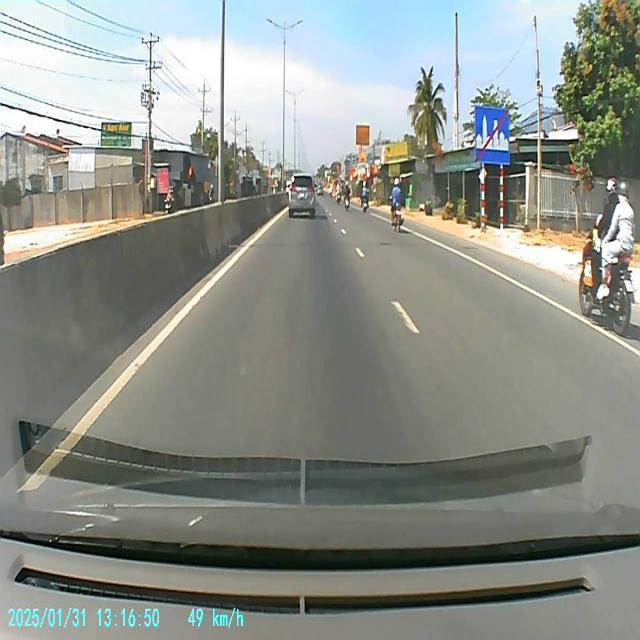421-ket-thuc-khu-dong-dan-cu: (474, 105, 510, 164)
